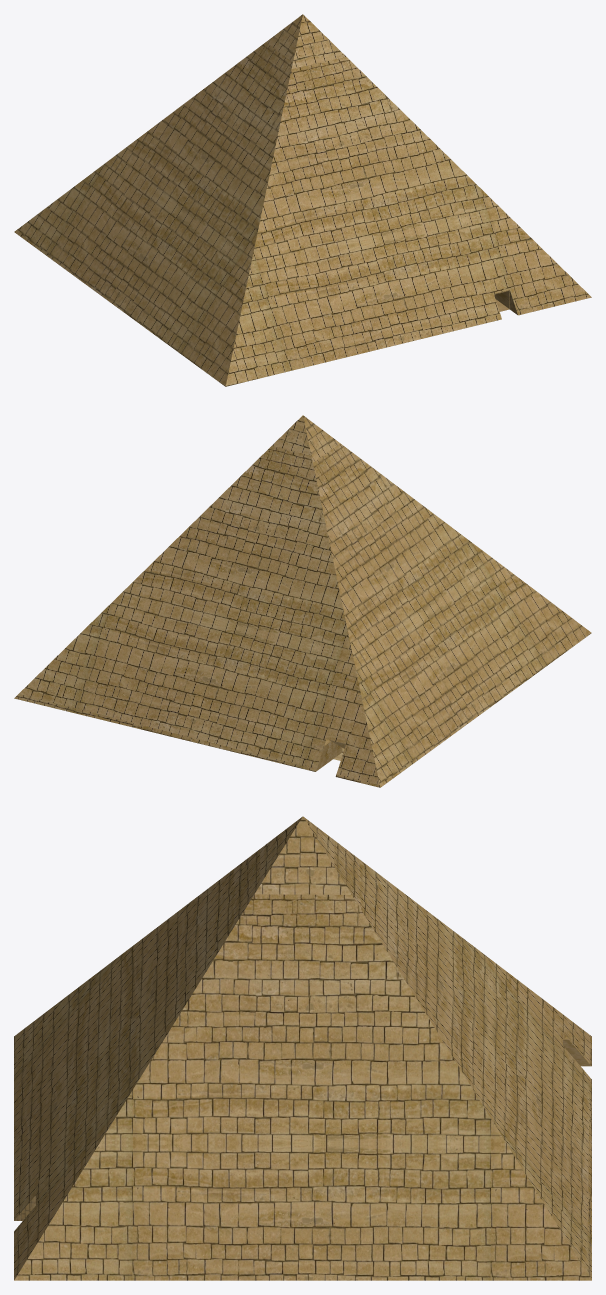
3 renders of one model, top to bottom at view 1: azimuth 30°, elevation 25°; view 2: azimuth 150°, elevation 25°; view 3: azimuth 270°, elevation 25°, orthographic. The views are drawn at different scales.
Parts seen in each view (by area): view 1: 本体; view 2: 本体; view 3: 本体.
Part boxes in pixels (x1,y1,x2,y2): 本体: [14, 14, 591, 386]; 本体: [14, 415, 591, 787]; 本体: [14, 816, 591, 1280].
Size of the model in its own units: 45.9 by 30 by 45.9.
2 materials, 2 textured.
